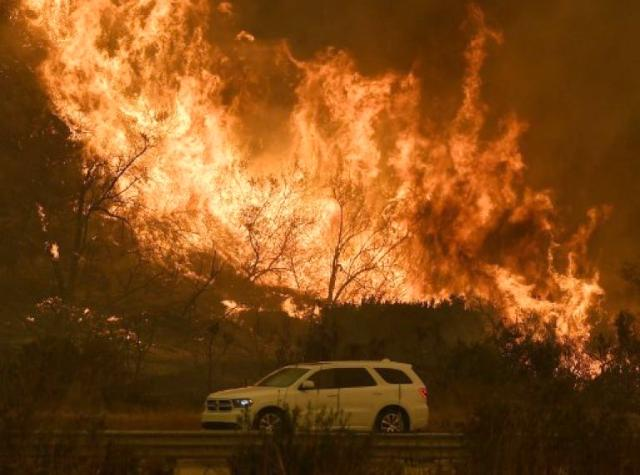fire: (8, 1, 628, 368)
